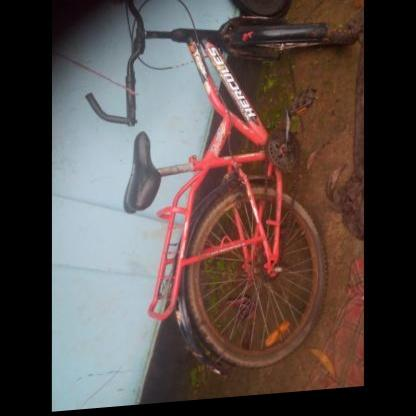Bicycle: (102, 11, 345, 380)
